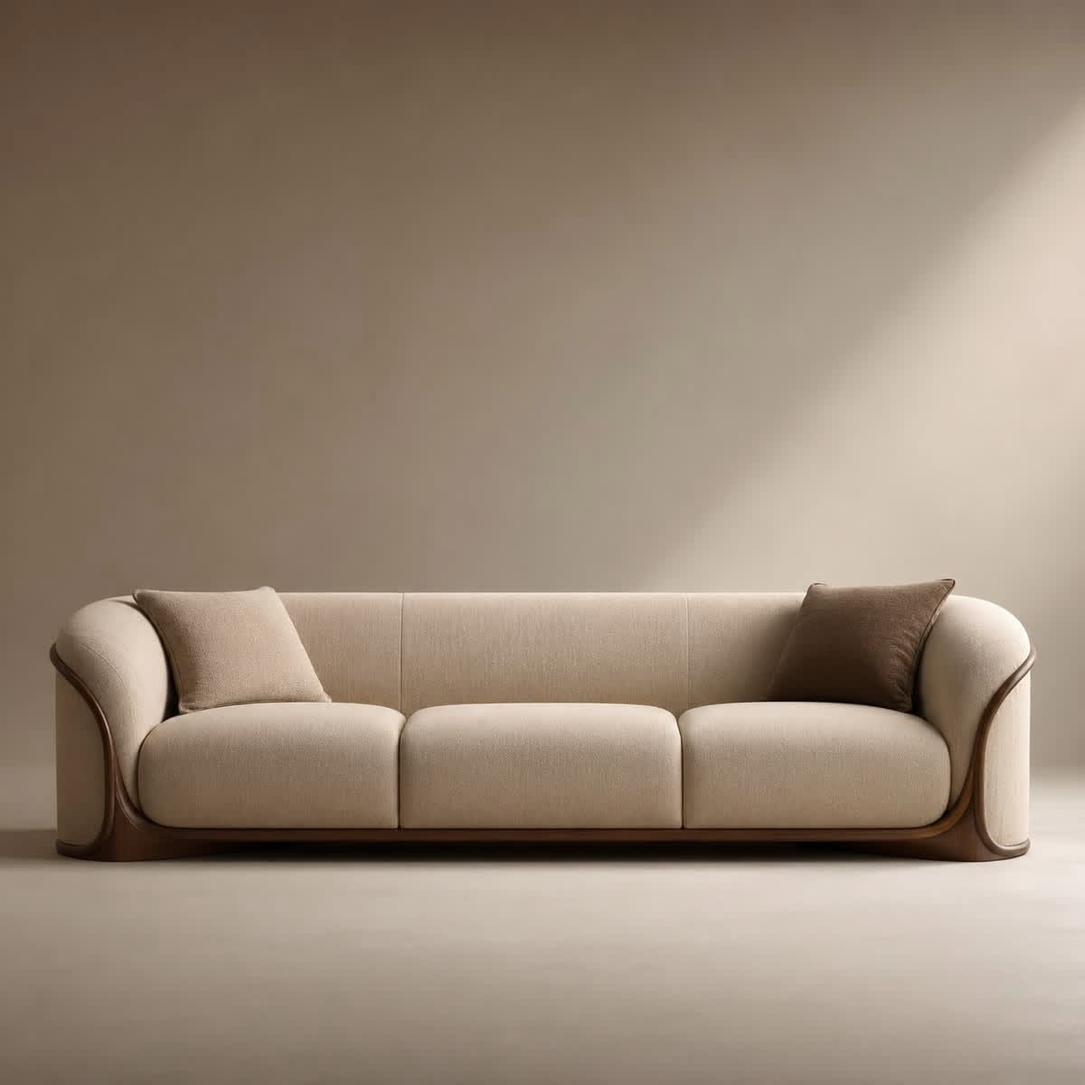3seatersofa: (51, 580, 1033, 860)
backrest: (284, 592, 802, 717)
leftarmrest: (919, 595, 1031, 844)
leg: (51, 644, 1035, 861)
pillow: (137, 589, 329, 712), (771, 581, 952, 711)
rightarmrest: (54, 598, 174, 844)
seat: (135, 703, 949, 827)
